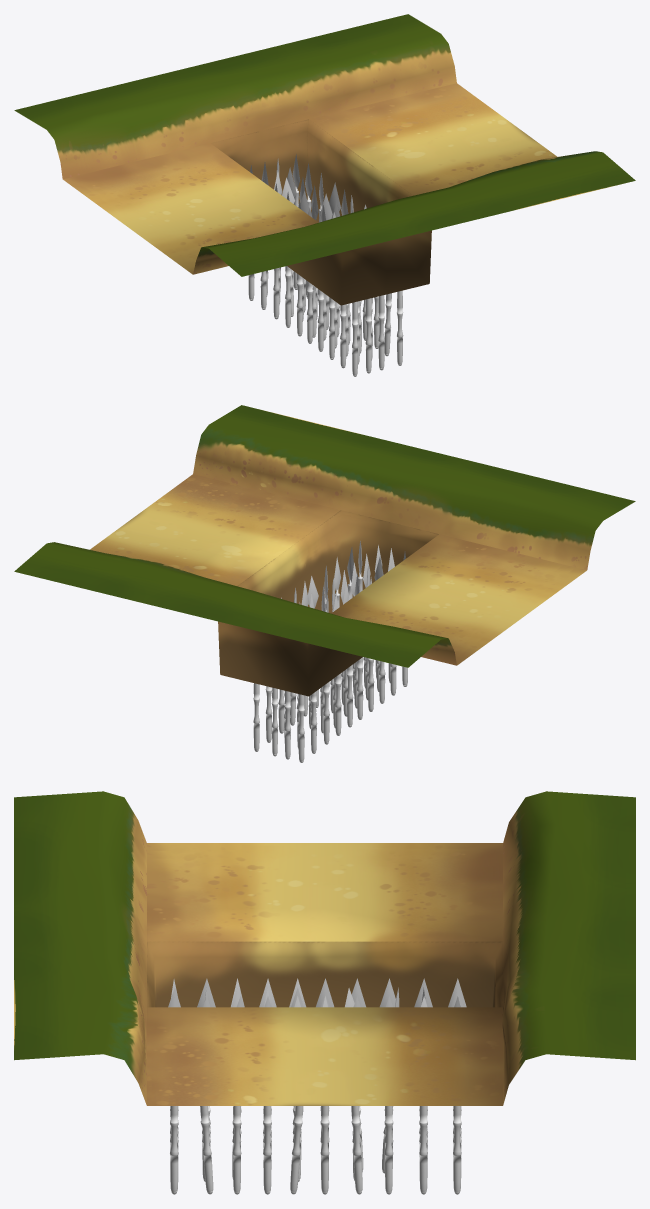
The model's file is RoanStraightPit.fbx.
The picture shows the model from 3 angles, top to bottom: view 1: azimuth 30°, elevation 25°; view 2: azimuth 150°, elevation 25°; view 3: azimuth 270°, elevation 25°; orthographic projection. The views are drawn at different scales.
Visible parts, largest first — view 1: Plane.002; view 2: Plane.002; view 3: Plane.002.
Boxes of the visible parts, bbox=[...] form: Plane.002: bbox=[14, 14, 635, 376]; Plane.002: bbox=[14, 405, 635, 762]; Plane.002: bbox=[14, 791, 635, 1194].
Bounding box in the file's own units: 1000 × 469 × 1000.
